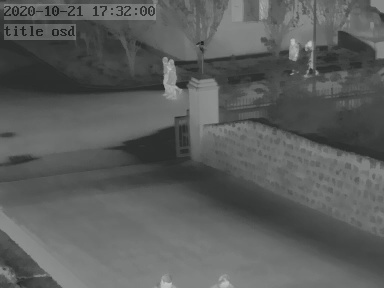person: (161, 56, 178, 97), (288, 36, 299, 62)
